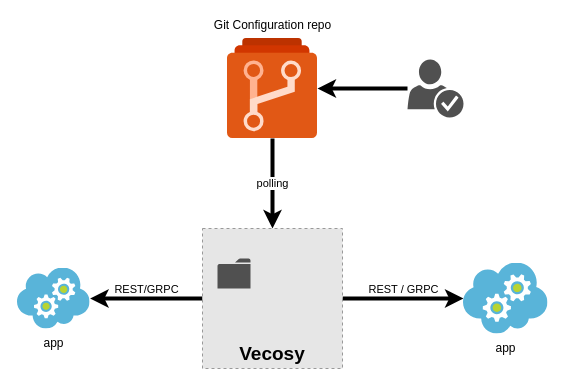
The diagram is 565 pixels wide and 386 high, and some of its shapes have lost their labels. Grey dashed boxes stand in for pictures. The shapes that lost their labels are listed below. From the top down, each one's centre as x and y in pixels, then its label:
[435,88]: configurator
[233,273]: local cache
